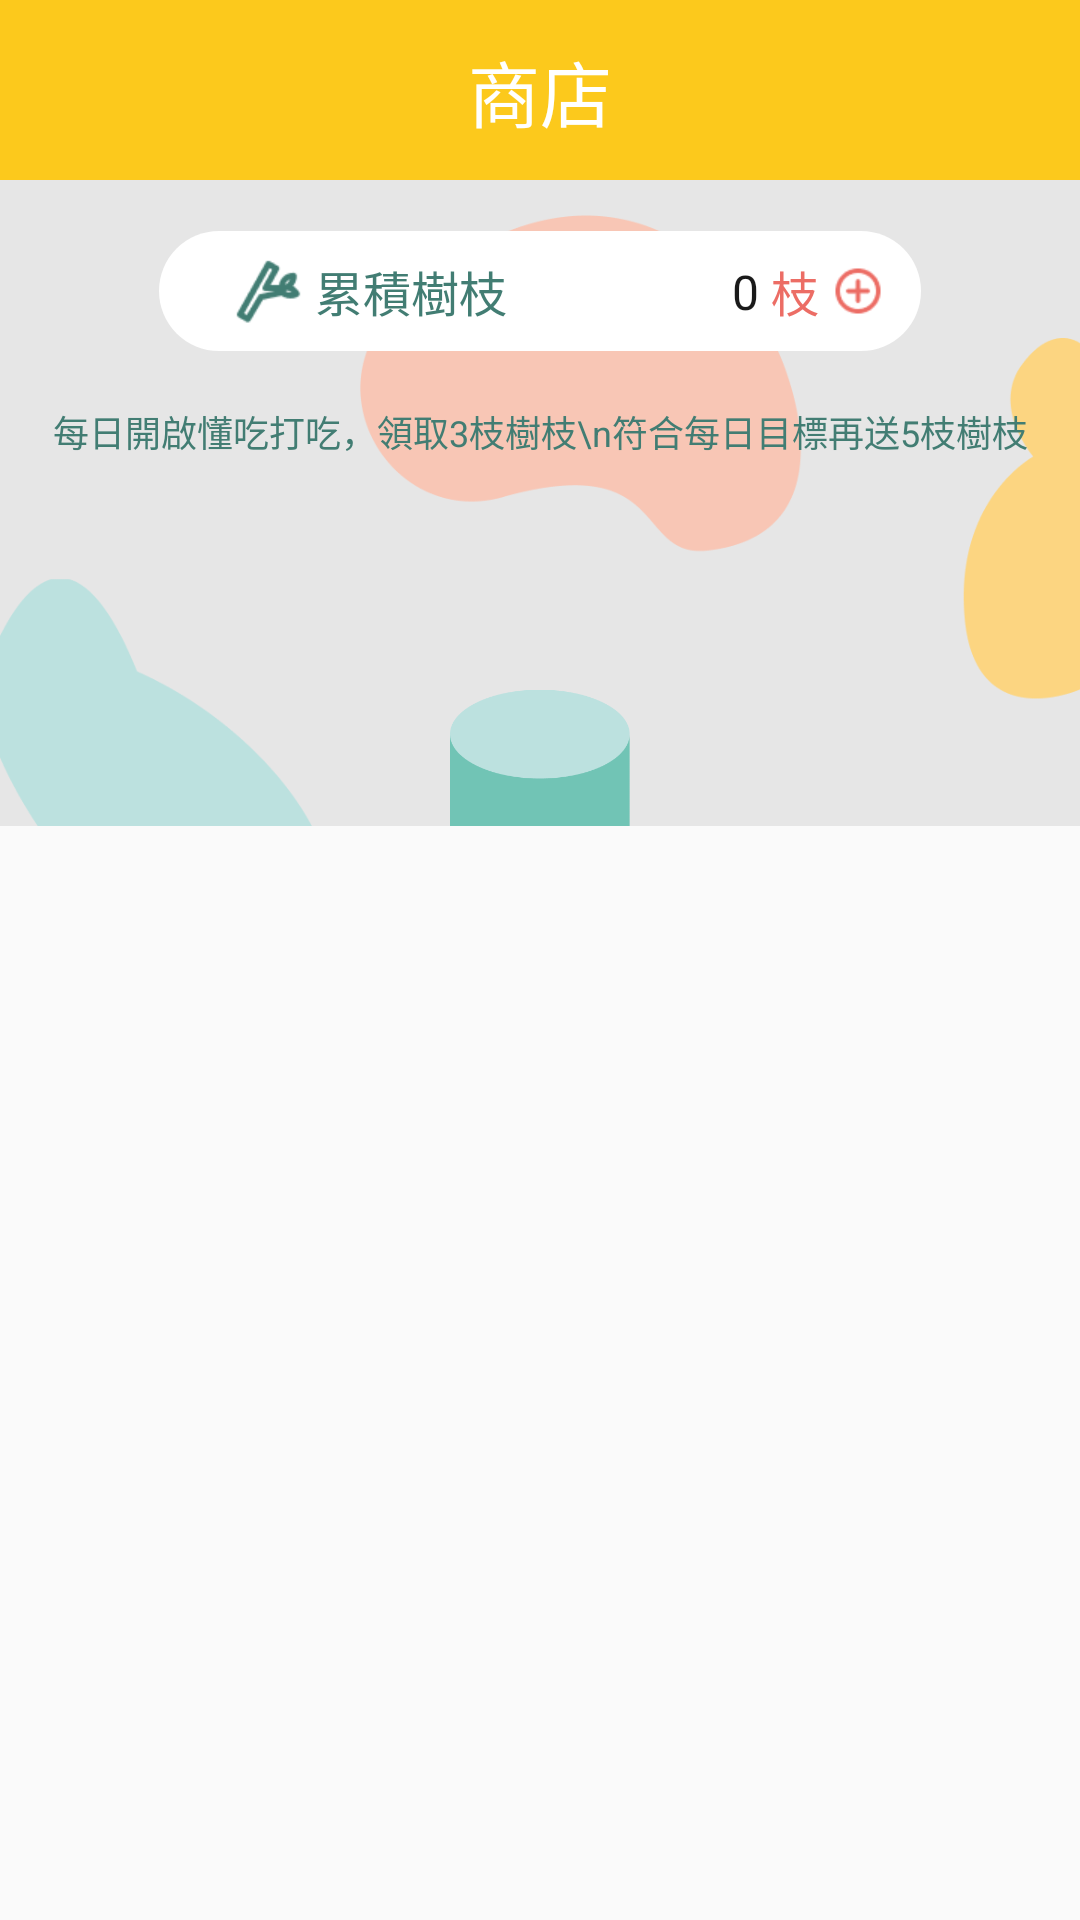

Screen size 1080 × 1920. Icon name, then its center in pixels as point (x, y):
branch: point (268, 291)
plus: point (858, 291)
